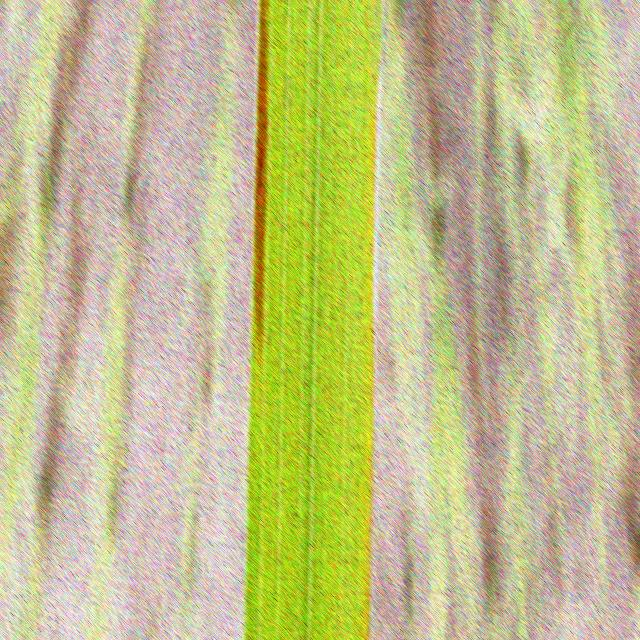NBS: (254, 0, 268, 357)
